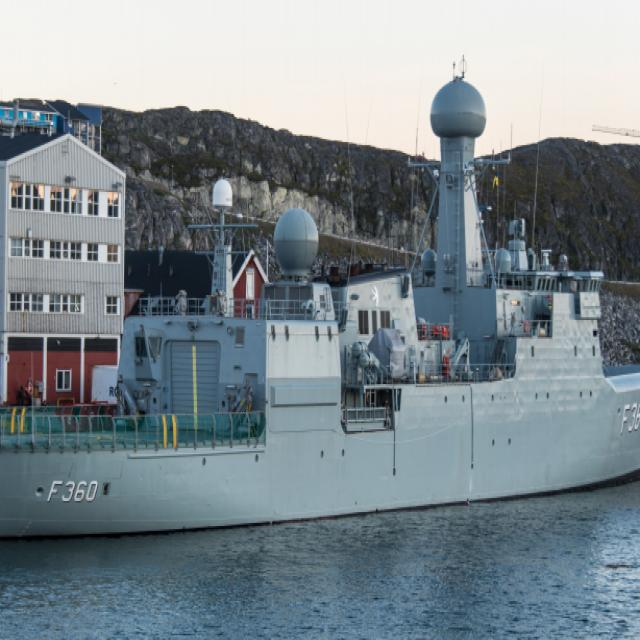Fragata: (1, 64, 640, 548)
